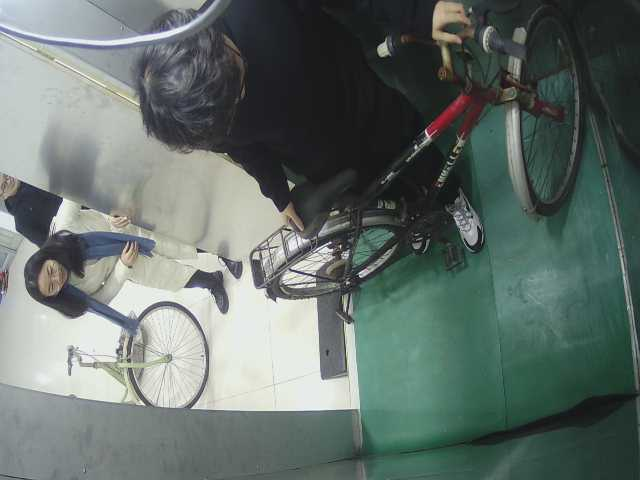bicycle: (257, 12, 597, 327), (55, 295, 226, 416)
person: (136, 1, 486, 260), (23, 195, 248, 319)
